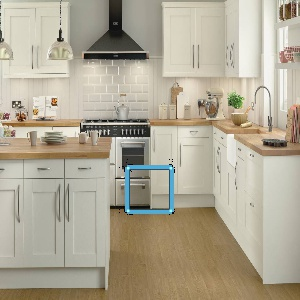square: (123, 163, 177, 217)
